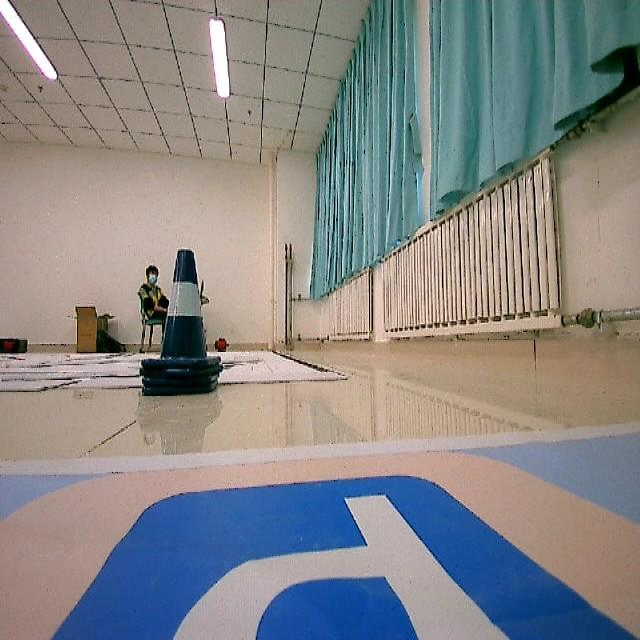obstacle: (145, 242, 220, 400)
